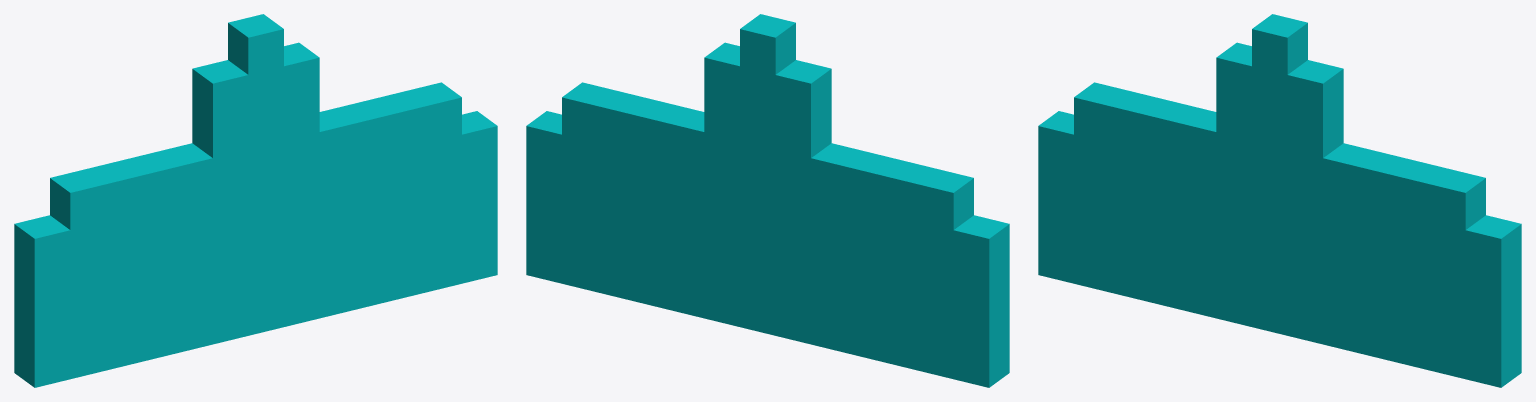
The model's file is invader_ship.obj.
3 renders of one model, left to right at view 1: azimuth 30°, elevation 25°; view 2: azimuth 150°, elevation 25°; view 3: azimuth 330°, elevation 25°, orthographic.
Visible parts, largest first — view 1: Cube; view 2: Cube; view 3: Cube.
Boxes of the visible parts, x1=… form: Cube: x1=14, y1=14, x2=497, y2=387; Cube: x1=526, y1=14, x2=1009, y2=387; Cube: x1=1038, y1=14, x2=1521, y2=387.
Size of the model in its own units: 13 by 8 by 1.
